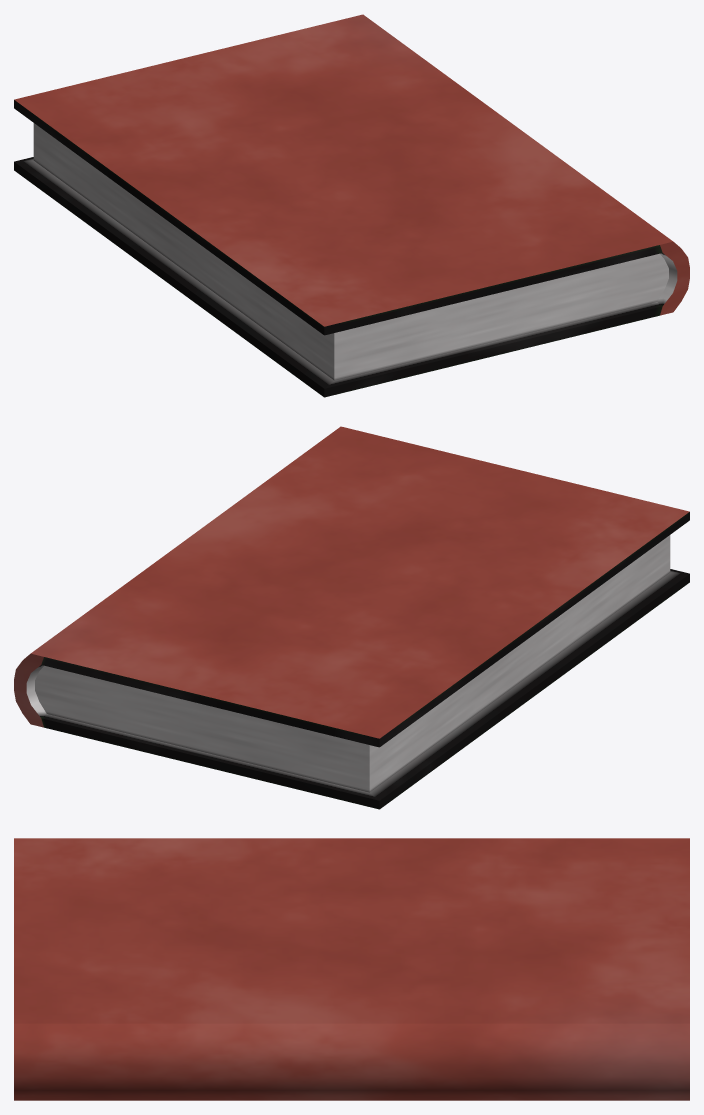
Rendered from SingleBookB.fbx.
3 views of the same model, one above another, from view 1: azimuth 30°, elevation 25°; view 2: azimuth 150°, elevation 25°; view 3: azimuth 270°, elevation 25° (orthographic). The views are drawn at different scales.
Visible parts, largest first — view 1: SingleBookB; view 2: SingleBookB; view 3: SingleBookB.
Part boxes in pixels (x1,y1,x2,y2): SingleBookB: [14, 14, 689, 397]; SingleBookB: [14, 426, 689, 809]; SingleBookB: [14, 838, 689, 1100].
Size of the model in its own units: 18.64 by 3.45 by 27.4.
